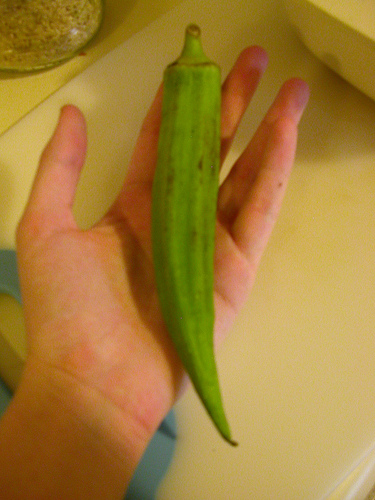okra: (150, 15, 236, 445)
